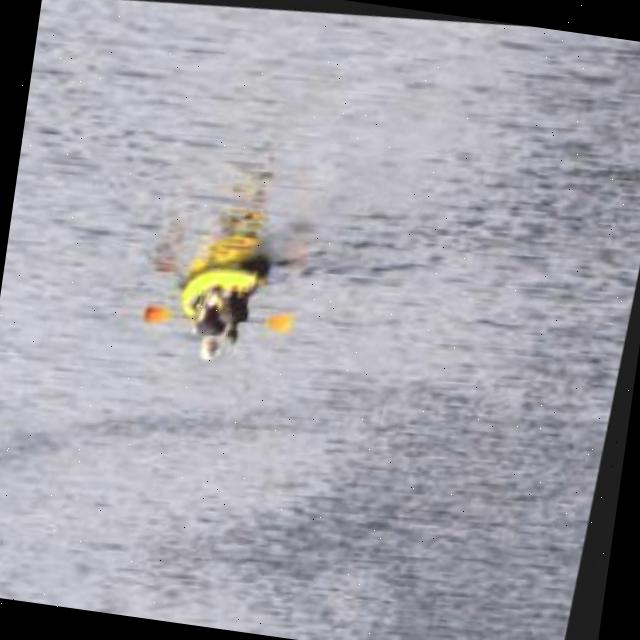kayak: (188, 259, 272, 303)
